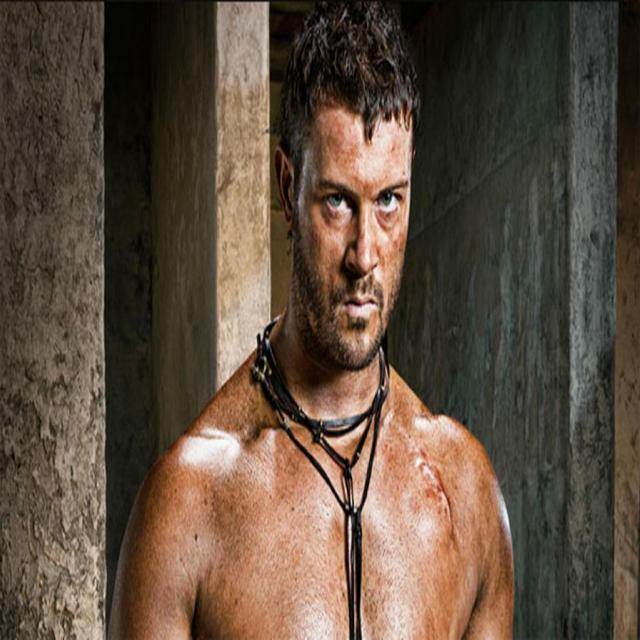nomask: (304, 100, 408, 356)
